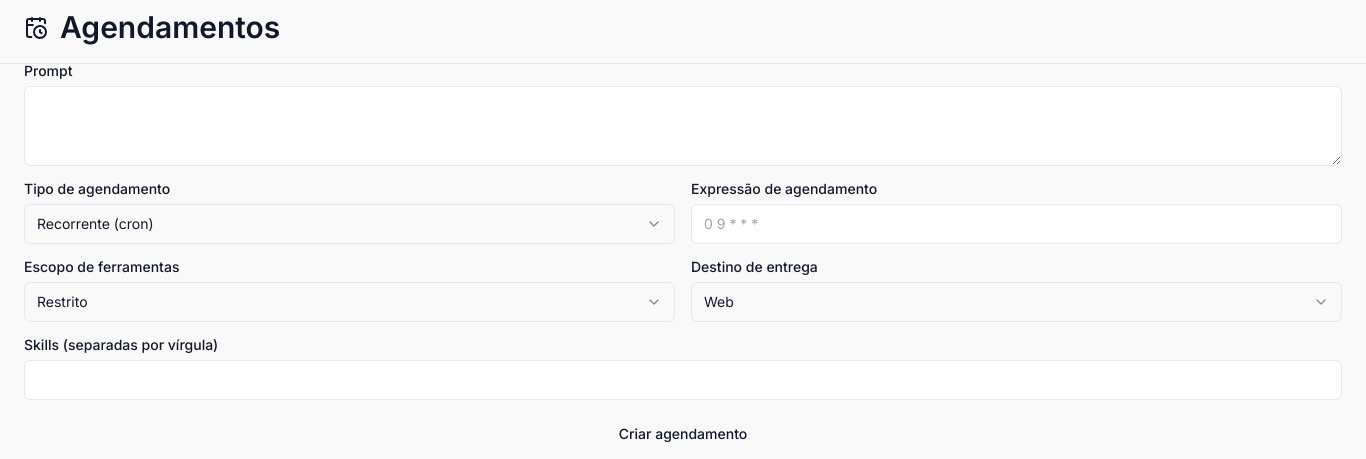
SchedulingPage — delivery destination (ui-1) › unit-2: WHEN delivery-channels returns web and whatsapp THEN the selector exposes those options
The image size is (1366, 459).
What coordinates should you click on to do the following:
click the dropdown named "destino de entrega"
I would click on:
 (719, 301)
Its box is [691, 282, 1342, 322].
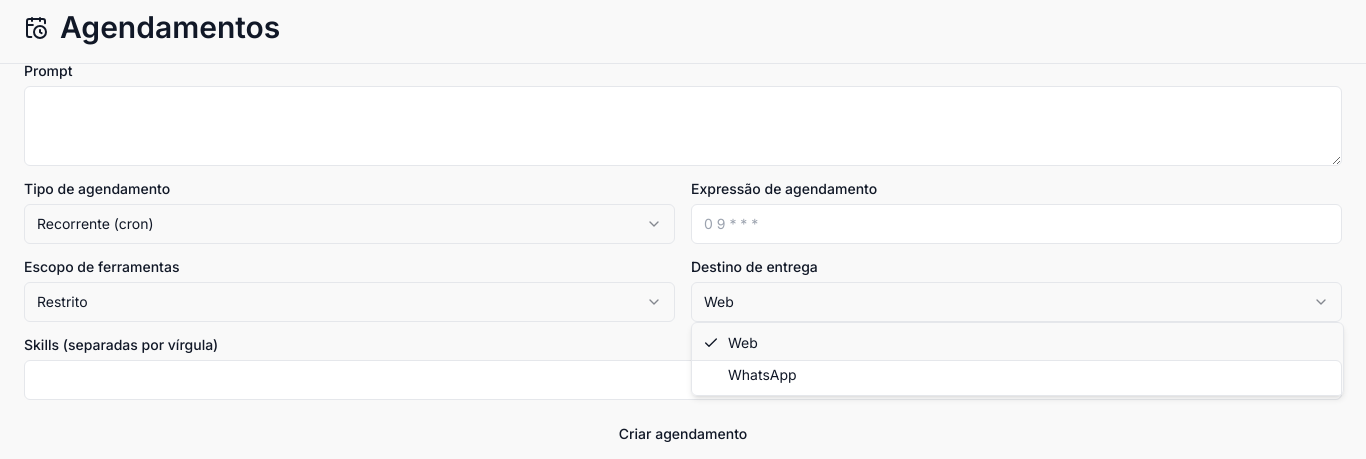
Expected: the option "Web" is shown, [703, 334, 758, 351]
Expected: the option "WhatsApp" is shown, [728, 366, 797, 383]
